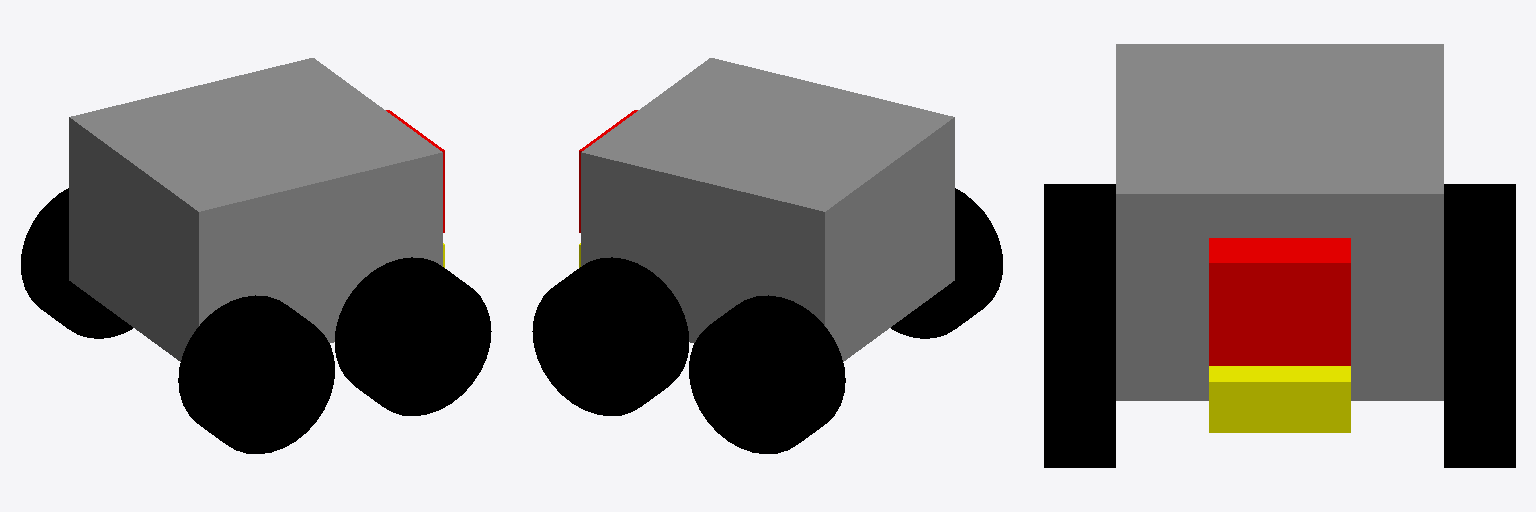
URDF robot description (simple_bot):
<?xml version="1.0" ?>
<!-- =================================================================================== -->
<!-- |    This document was autogenerated by xacro from [local-path]/ros2_ws_forpc/models/simple_bot.xacro | -->
<!-- |    EDITING THIS FILE BY HAND IS NOT RECOMMENDED                                 | -->
<!-- =================================================================================== -->
<robot name="simple_bot">
  <!-- 앞뒤 바퀴 간격 -->
  <!-- ===================== base_link ===================== -->
  <link name="base_link">
    <inertial>
      <mass value="1.0"/>
      <inertia ixx="0.001" ixy="0.0" ixz="0.0" iyy="0.001" iyz="0.0" izz="0.001"/>
    </inertial>
    <visual>
      <geometry>
        <box size="0.125 0.115 0.08"/>
      </geometry>
      <origin rpy="0 0 0" xyz="0 0 0.07300000000000001"/>
      <material name="Gray">
        <color rgba="0.6 0.6 0.6 1.0"/>
      </material>
    </visual>
    <collision name="base_collision">
      <geometry>
        <box size="0.125 0.115 0.08"/>
      </geometry>
      <origin rpy="0 0 0" xyz="0 0 0.07300000000000001"/>
    </collision>
  </link>
  <!-- ===================== Left Wheels ===================== -->
  <!-- Left Front Wheel -->
  <link name="left_front_wheel_link">
    <inertial>
      <mass value="0.2"/>
      <!-- 질량 (kg) -->
      <inertia ixx="0.000056" ixy="0.0" ixz="0.0" iyy="0.000056" iyz="0.0" izz="0.00009"/>
    </inertial>
    <visual>
      <geometry>
        <cylinder length="0.025" radius="0.033"/>
      </geometry>
      <origin rpy="1.5708 0 0" xyz="0 0 0"/>
      <material name="Black">
        <color rgba="0 0 0 1"/>
      </material>
    </visual>
    <!-- 💡 물리 충돌 형태 추가 -->
    <collision name="left_front_wheel_collision">
      <geometry>
        <cylinder length="0.025" radius="0.033"/>
      </geometry>
      <origin rpy="1.5708 0 0" xyz="0 0 0"/>
      <!-- visual과 동일한 회전 적용 -->
    </collision>
  </link>
  <joint name="left_front_wheel_joint" type="continuous">
    <parent link="base_link"/>
    <child link="left_front_wheel_link"/>
    <origin rpy="0 0 0" xyz="0.04 0.07 0.033"/>
    <axis xyz="0 1 0"/>
  </joint>
  <!-- Left Rear Wheel -->
  <link name="left_rear_wheel_link">
    <inertial>
      <mass value="0.2"/>
      <!-- 질량 (kg) -->
      <inertia ixx="0.000056" ixy="0.0" ixz="0.0" iyy="0.000056" iyz="0.0" izz="0.00009"/>
    </inertial>
    <visual>
      <geometry>
        <cylinder length="0.025" radius="0.033"/>
      </geometry>
      <origin rpy="1.5708 0 0" xyz="0 0 0"/>
      <material name="Black">
        <color rgba="0 0 0 1"/>
      </material>
    </visual>
    <collision name="left_rear_wheel_collision">
      <geometry>
        <cylinder length="0.025" radius="0.033"/>
      </geometry>
      <origin rpy="1.5708 0 0" xyz="0 0 0"/>
      <!-- visual과 동일한 회전 적용 -->
    </collision>
  </link>
  <joint name="left_rear_wheel_joint" type="continuous">
    <parent link="base_link"/>
    <child link="left_rear_wheel_link"/>
    <origin rpy="0 0 0" xyz="-0.04 0.07 0.033"/>
    <axis xyz="0 1 0"/>
  </joint>
  <!-- ===================== Right Wheels ===================== -->
  <!-- Right Front Wheel -->
  <link name="right_front_wheel_link">
    <inertial>
      <mass value="0.2"/>
      <!-- 질량 (kg) -->
      <inertia ixx="0.000056" ixy="0.0" ixz="0.0" iyy="0.000056" iyz="0.0" izz="0.00009"/>
    </inertial>
    <visual>
      <geometry>
        <cylinder length="0.025" radius="0.033"/>
      </geometry>
      <origin rpy="1.5708 0 0" xyz="0 0 0"/>
      <material name="Black">
        <color rgba="0 0 0 1"/>
      </material>
    </visual>
    <collision name="right_front_wheel_collision">
      <geometry>
        <cylinder length="0.025" radius="0.033"/>
      </geometry>
      <origin rpy="1.5708 0 0" xyz="0 0 0"/>
      <!-- visual과 동일한 회전 적용 -->
    </collision>
  </link>
  <joint name="right_front_wheel_joint" type="continuous">
    <parent link="base_link"/>
    <child link="right_front_wheel_link"/>
    <origin rpy="0 0 0" xyz="0.04 -0.07 0.033"/>
    <axis xyz="0 1 0"/>
  </joint>
  <!-- Right Rear Wheel -->
  <link name="right_rear_wheel_link">
    <inertial>
      <mass value="0.2"/>
      <!-- 질량 (kg) -->
      <inertia ixx="0.000056" ixy="0.0" ixz="0.0" iyy="0.000056" iyz="0.0" izz="0.00009"/>
    </inertial>
    <visual>
      <geometry>
        <cylinder length="0.025" radius="0.033"/>
      </geometry>
      <origin rpy="1.5708 0 0" xyz="0 0 0"/>
      <material name="Black">
        <color rgba="0 0 0 1"/>
      </material>
      <collision name="right_rear_wheel_collision">
        <geometry>
          <cylinder length="0.025" radius="0.033"/>
        </geometry>
        <origin rpy="1.5708 0 0" xyz="0 0 0"/>
        <!-- visual과 동일한 회전 적용 -->
      </collision>
    </visual>
  </link>
  <joint name="right_rear_wheel_joint" type="continuous">
    <parent link="base_link"/>
    <child link="right_rear_wheel_link"/>
    <origin rpy="0 0 0" xyz="-0.04 -0.07 0.033"/>
    <axis xyz="0 1 0"/>
  </joint>
  <!-- ===================== Ultrasonic Sensor ===================== -->
  <link name="ultrasonic_link">
    <visual>
      <geometry>
        <box size="0.02 0.05 0.02"/>
      </geometry>
      <origin rpy="0 0 0" xyz="0 0 0"/>
      <!-- 자기 중심 -->
      <material name="Yellow">
        <color rgba="1.0 1.0 0.0 1.0"/>
      </material>
    </visual>
  </link>
  <!-- <gazebo reference="ultrasonic_link">
    <sensor name="ultrasonic_sensor" type="ray">
      <update_rate>10</update_rate>
      <ray>
        <range>
          <min>0.02</min>
          <max>2.0</max>
          <resolution>0.01</resolution>
        </range>
        <noise>
          <type>gaussian</type>
          <mean>0.0</mean>
          <stddev>0.01</stddev>
        </noise>
      </ray>
      <plugin name="gazebo_ros_range" filename="libgazebo_ros_range.so">
        <ros>
          <namespace>/</namespace>
          <remapping>~/out:=/ultrasonic/data</remapping>
        </ros>
      </plugin>
    </sensor>
  </gazebo> -->
  <joint name="ultrasonic_joint" type="fixed">
    <parent link="base_link"/>
    <child link="ultrasonic_link"/>
    <origin rpy="0 0 0" xyz="0.0725 0 0.04"/>
  </joint>
  <!-- ===================== Camera ===================== -->
  <link name="camera_link">
    <visual>
      <geometry>
        <box size="0.02 0.05 0.04"/>
      </geometry>
      <origin rpy="0 0 0" xyz="0 0 0"/>
      <!-- 자기 중심 -->
      <material name="Red">
        <color rgba="1.0 0.0 0.0 1.0"/>
      </material>
    </visual>
  </link>
  <!-- <gazebo reference="camera_link">
    <sensor name="camera_sensor" type="camera">
      <camera>
        <horizontal_fov>1.3962634</horizontal_fov>
        <image>
          <width>640</width>
          <height>480</height>
          <format>R8G8B8</format>
        </image>
        <clip>
          <near>0.05</near>
          <far>5.0</far>
        </clip>
      </camera>
      <always_on>true</always_on>
      <update_rate>30</update_rate>
      <plugin name="gazebo_ros_camera" filename="libgazebo_ros_camera.so">
        <ros>
          <namespace>/</namespace>
          <remapping>~/image_raw:=/camera/image_raw</remapping>
        </ros>
      </plugin>
    </sensor>
  </gazebo> -->
  <joint name="camera_joint" type="fixed">
    <parent link="base_link"/>
    <child link="camera_link"/>
    <origin rpy="0 0 0" xyz="0.0725 0 0.076"/>
  </joint>
</robot>

--- Render facts (derived) ---
The picture shows the robot from 3 angles, left to right: view 1: azimuth 30°, elevation 25°; view 2: azimuth 150°, elevation 25°; view 3: azimuth 270°, elevation 25°; orthographic projection.
Model simple_bot with 7 links and 6 joints (4 continuous, 2 fixed), rooted at base_link, posed every joint at zero.
Visible links, largest first — view 1: base_link, right_rear_wheel_link, right_front_wheel_link, left_rear_wheel_link; view 2: base_link, left_rear_wheel_link, left_front_wheel_link, right_rear_wheel_link; view 3: base_link, camera_link, left_front_wheel_link, right_front_wheel_link, ultrasonic_link, left_rear_wheel_link, right_rear_wheel_link.
Link boxes in pixels (x1,y1,x2,y2): base_link: (69, 58, 442, 361); right_rear_wheel_link: (178, 295, 334, 453); right_front_wheel_link: (335, 257, 491, 415); left_rear_wheel_link: (21, 188, 132, 338); base_link: (581, 58, 954, 361); left_rear_wheel_link: (689, 295, 845, 453); left_front_wheel_link: (532, 257, 688, 415); right_rear_wheel_link: (891, 188, 1002, 338); base_link: (1116, 44, 1443, 400); camera_link: (1209, 238, 1350, 365); left_front_wheel_link: (1444, 280, 1515, 467); right_front_wheel_link: (1044, 280, 1115, 467); ultrasonic_link: (1209, 366, 1350, 432); left_rear_wheel_link: (1444, 184, 1515, 279); right_rear_wheel_link: (1044, 184, 1115, 279).
Bounding box of the posed robot: 0.1555 × 0.165 × 0.113 m (x, y, z).
Geometry: primitives only (box / cylinder / sphere), no mesh files.
